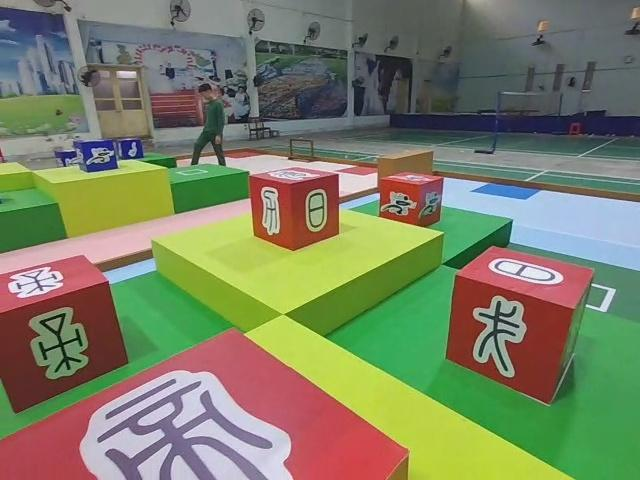R1: (378, 173, 443, 235)
R2 Fake: (0, 325, 409, 480), (445, 246, 593, 406), (248, 166, 338, 255)
R2 Real: (2, 255, 130, 415)
